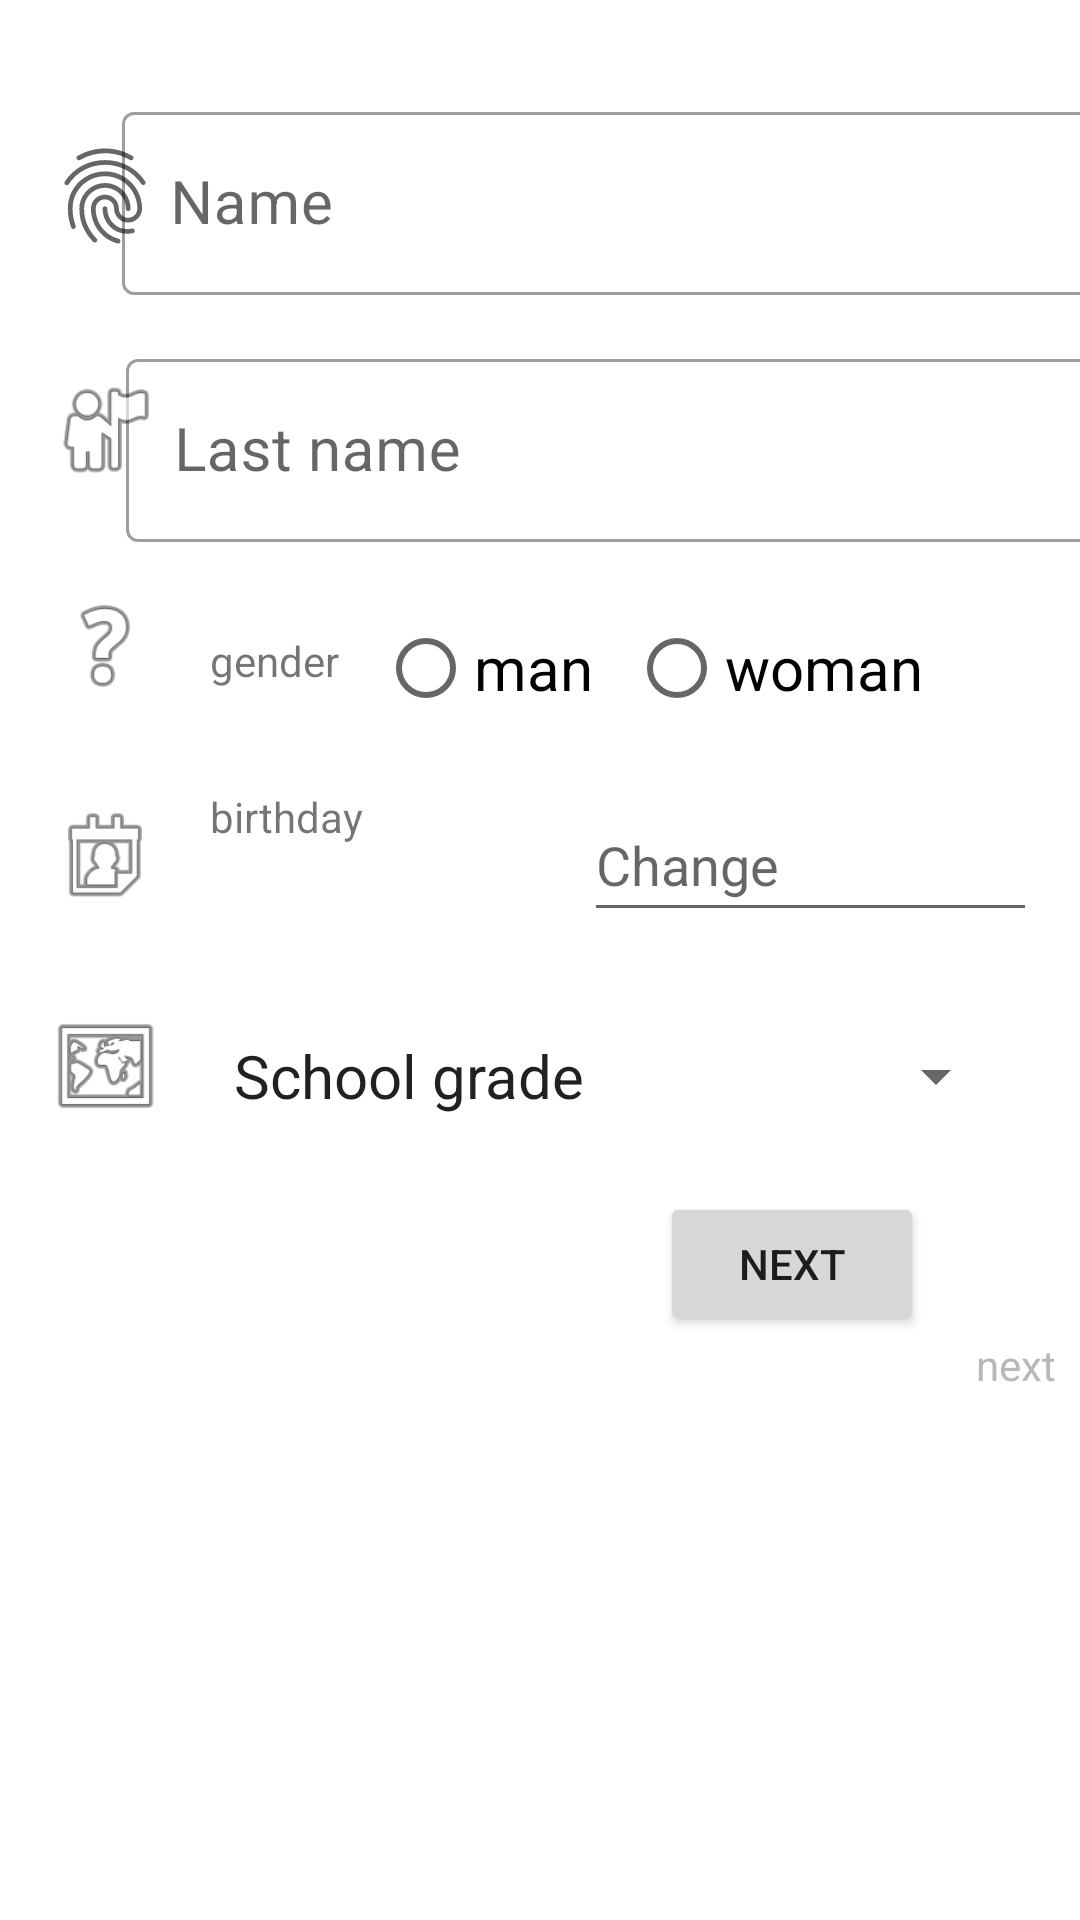

Screen size 1080 × 1920. Icon name, then its center in pixels as point (x, y):
calendar: point (105, 855)
help: point (105, 646)
mapmode: point (105, 1066)
